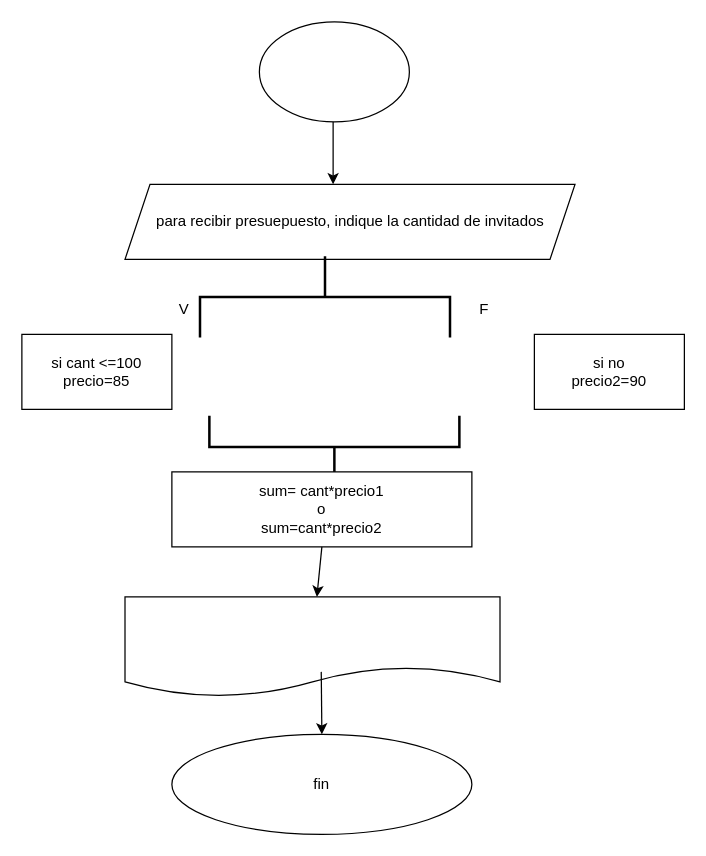
Image size: 706x856. Some labels were removed from this diagram. Here are the shapes that lost their labels. From the top down, the box of each, then its label:
(258, 21, 409, 122): inicio
(124, 596, 500, 697): el precio de cant de lapices sera
